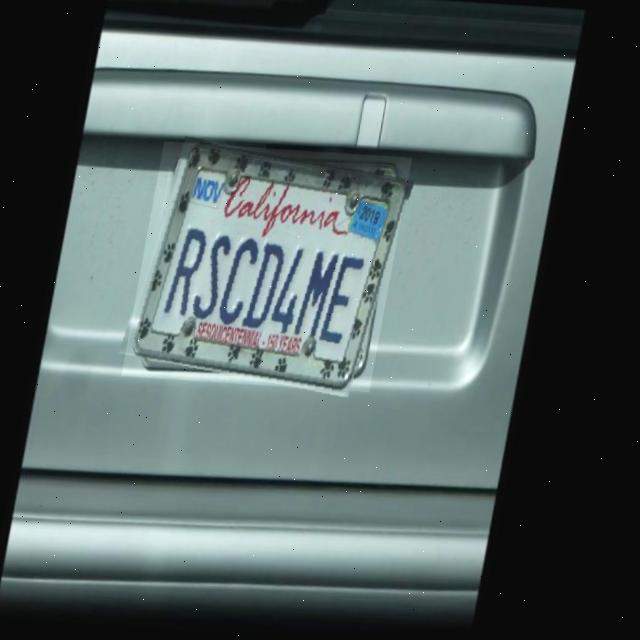LicensePlate: (127, 138, 417, 398)
